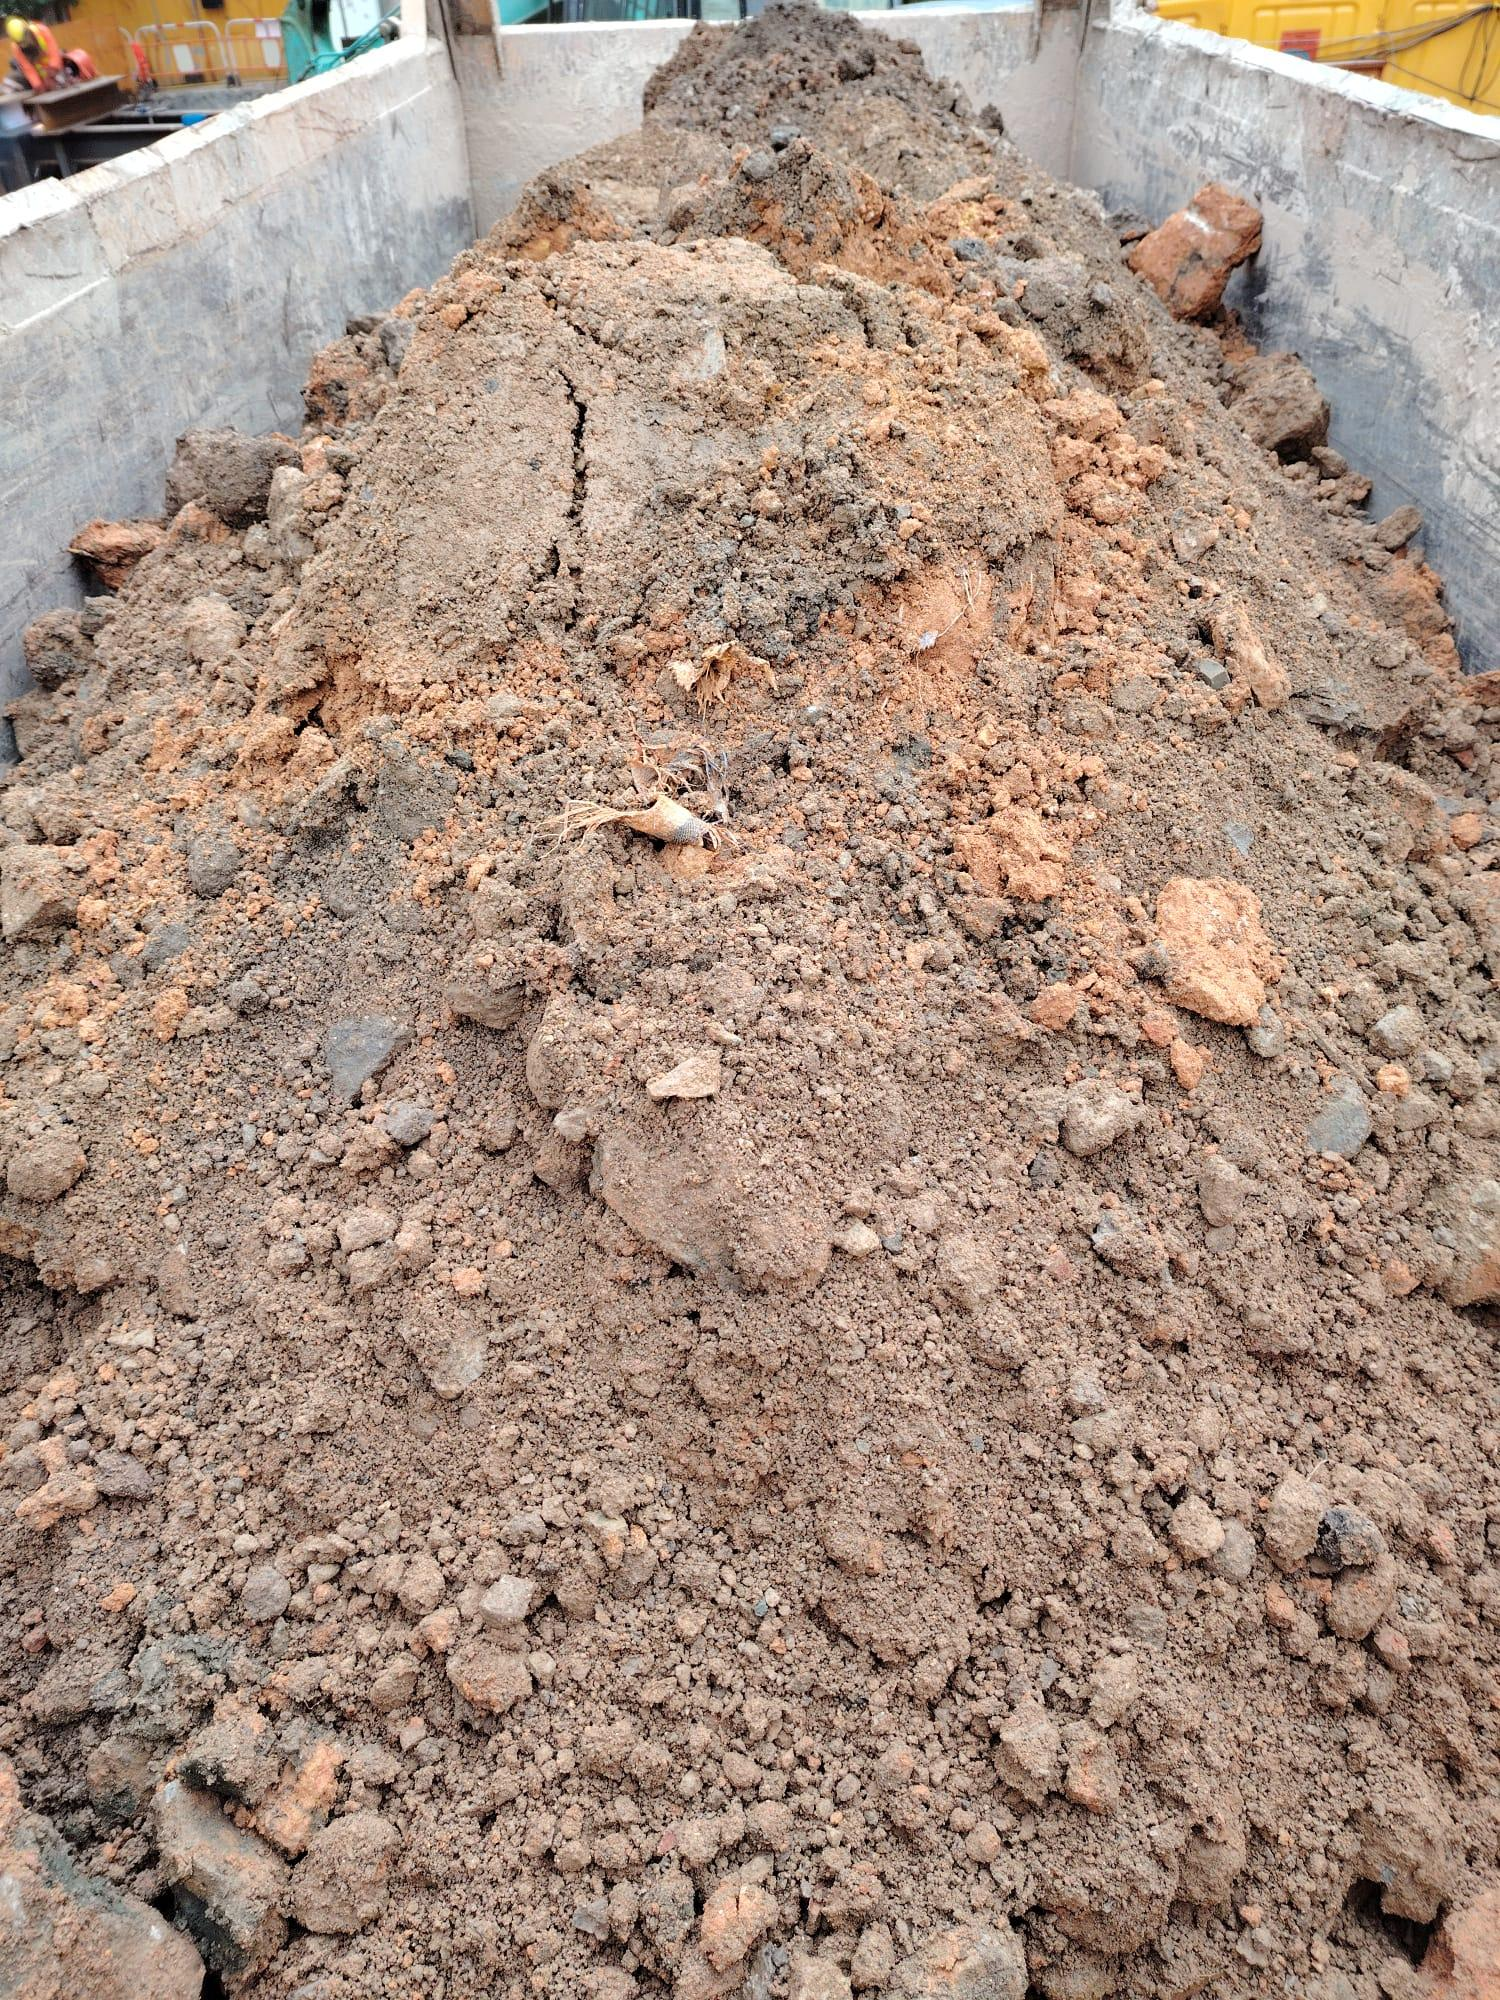wet: (3, 3, 1491, 1987)
